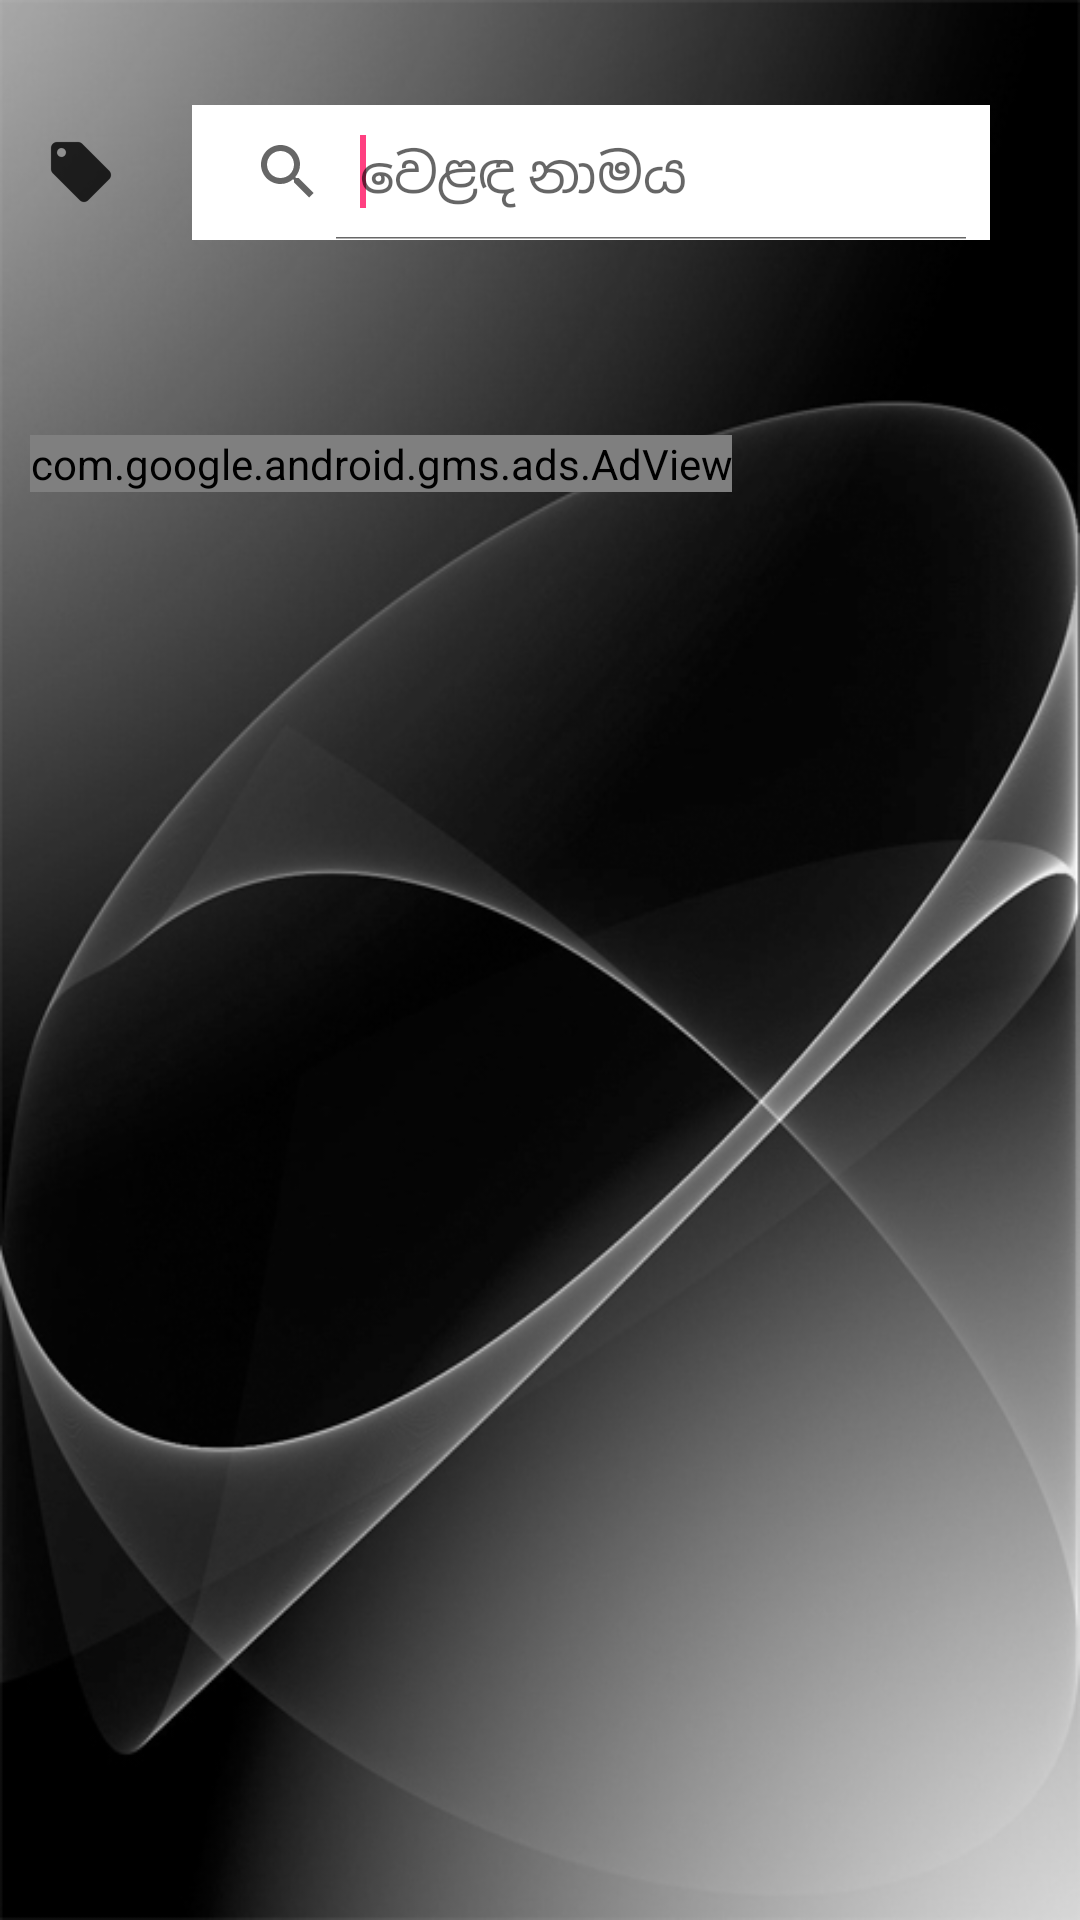

Where to tap for icons on this 1080x1920 app screen, as [x,y]:
brand: [81,172]
